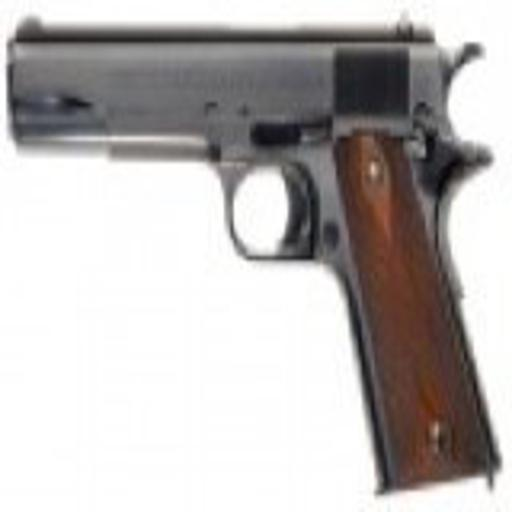Handgun: (5, 20, 498, 489)
